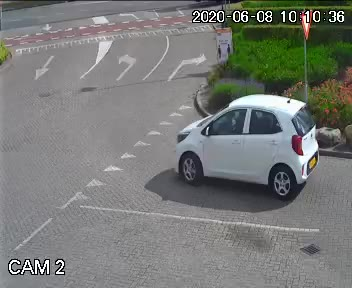car: (158, 91, 318, 197)
